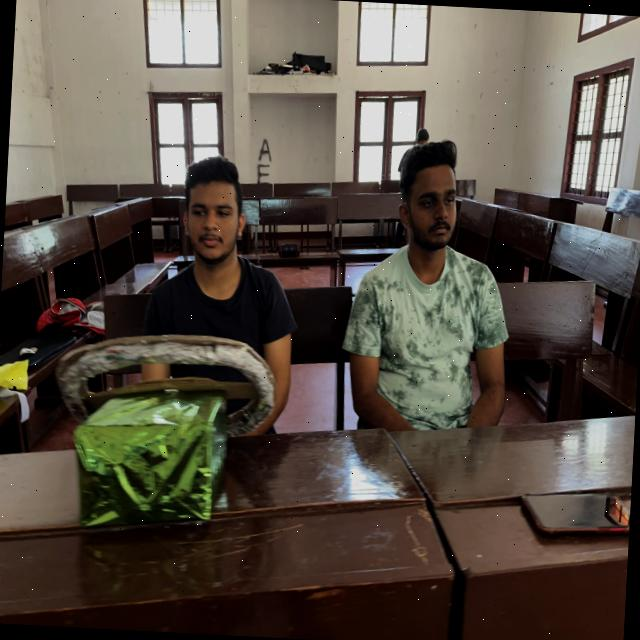Helmet: (336, 246, 517, 462), (134, 260, 300, 450)
